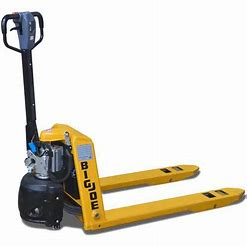Pallet Jack: (1, 11, 247, 235)
